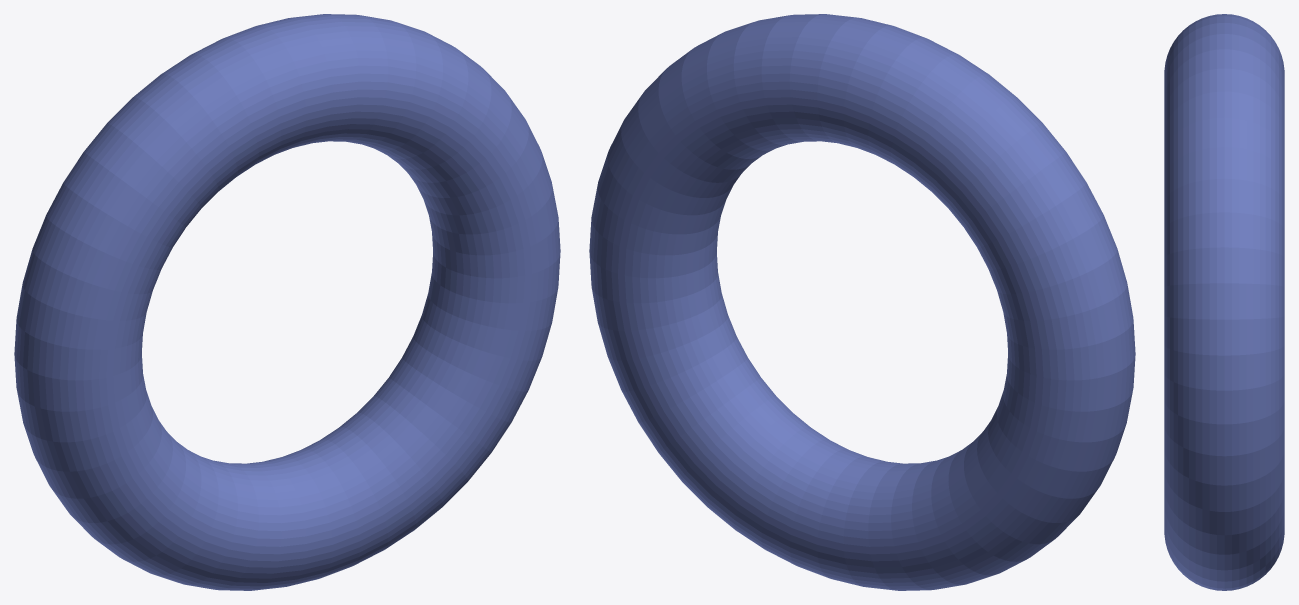
3 views of the same model, side by side, from view 1: azimuth 30°, elevation 25°; view 2: azimuth 150°, elevation 25°; view 3: azimuth 270°, elevation 25° (orthographic). The views are drawn at different scales.
Visible parts, largest first — view 1: world; view 2: world; view 3: world.
Part boxes in pixels (box(x1,y1,x2,y2)): world: box(14, 14, 560, 590); world: box(589, 14, 1135, 590); world: box(1164, 14, 1284, 590).
Size of the model in its own units: 18.53 by 18.5 by 3.86.
